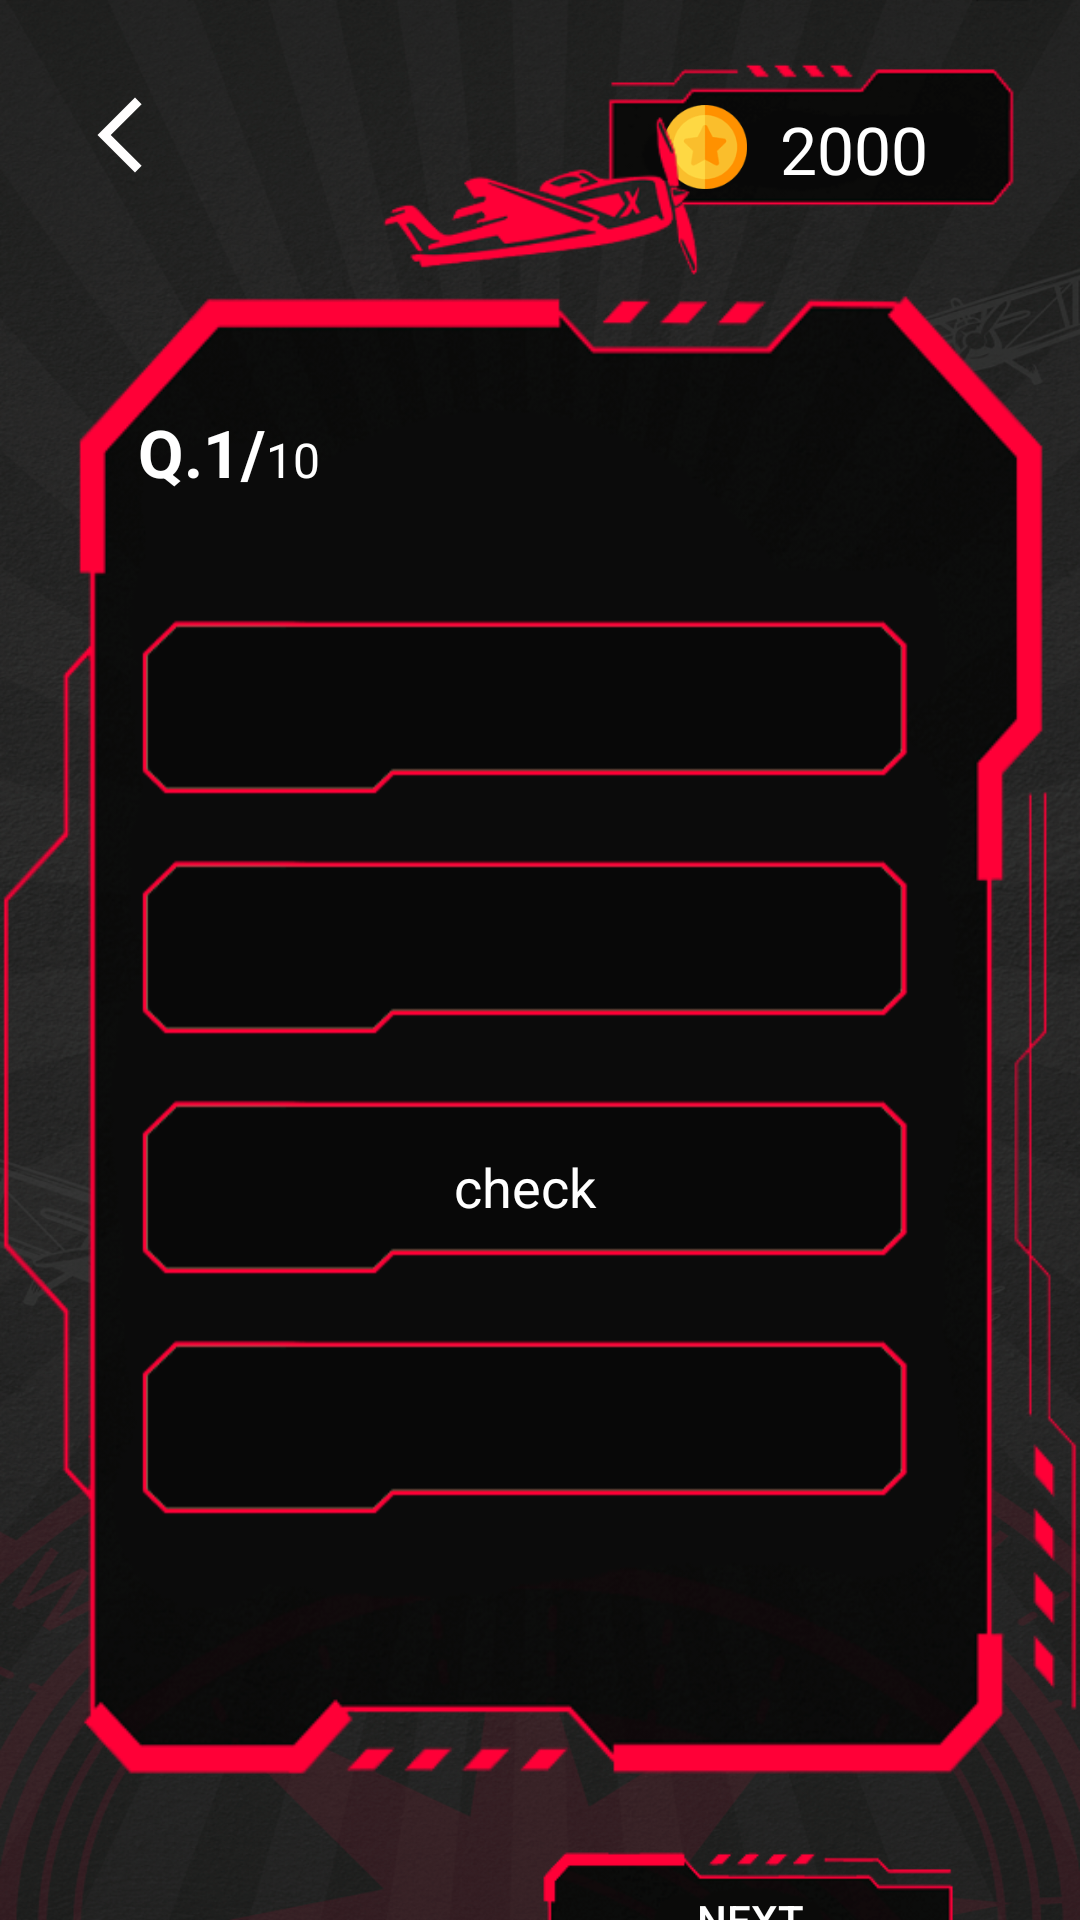

Icons on this 1080x1920 Android screen, each with its box as (x1, y1, x2, y2):
back arrow: (97, 97, 142, 173)
